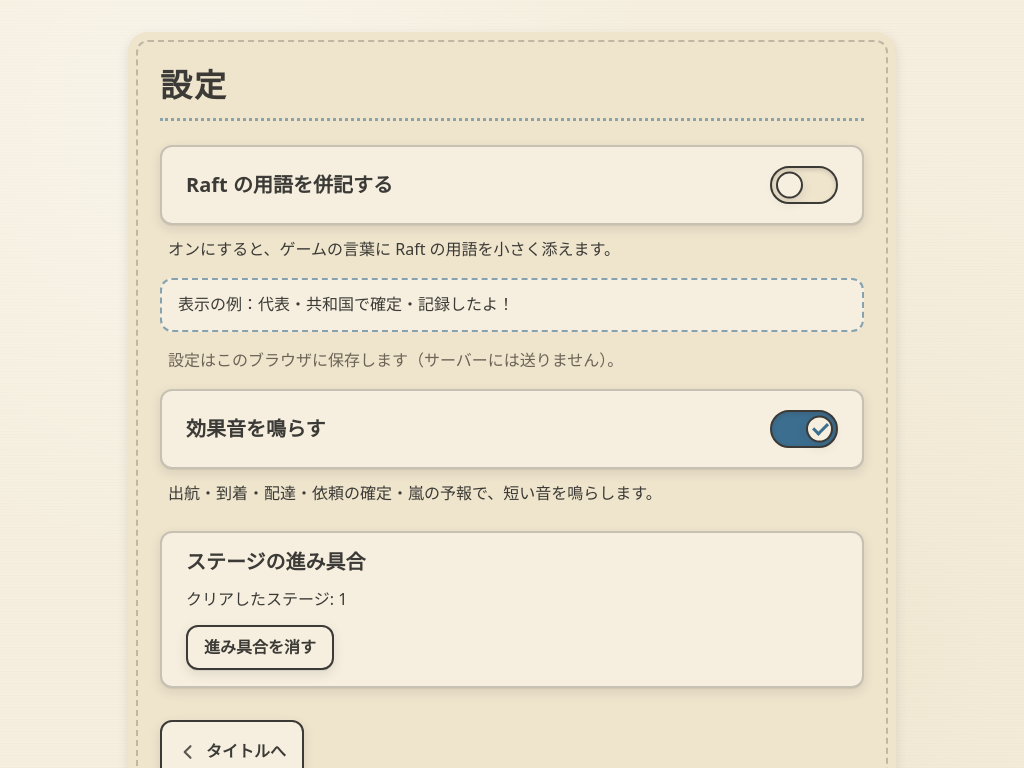
Test case: SettingsScreen のステージの進み具合（T-703） › SE-U1 件数を出し、「進み具合を消す」→「消す」で消える
expect the heading "ステージの進み具合" is shown: met, box [186,548,366,575]
expect the text "クリアしたステージ: 1" is shown: met, box [186,588,347,610]
Click the button "進み具合を消す": click(260, 647) [186,625,334,670]
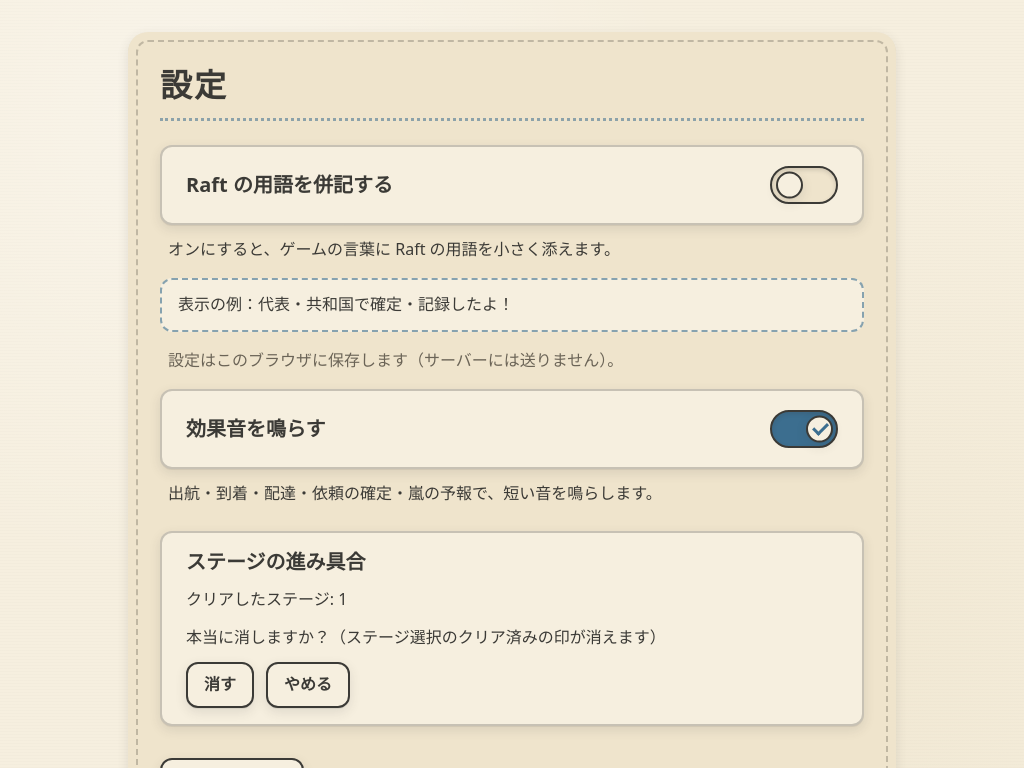
expect the text "本当に消しますか？（ステージ選択のクリア済みの印が消えます）" is shown: met, box [186,626,666,648]
expect the button "進み具合を消す" is gone: met
Click the button "消す": click(220, 685) [186,662,254,708]
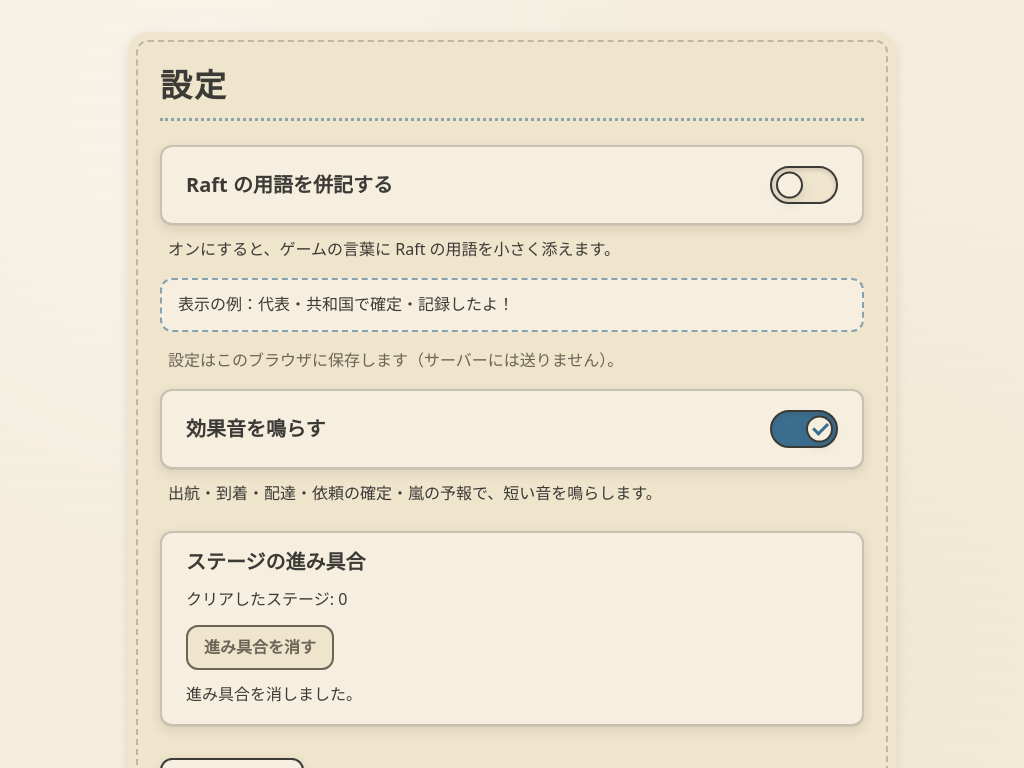
expect the text "クリアしたステージ: 0" is shown: met, box [186,588,347,610]
expect the message reads "進み具合を消しました。": met, box [186,683,362,705]
expect the text "本当に消しますか？（ステージ選択のクリア済みの印が消えます）" is gone: met
